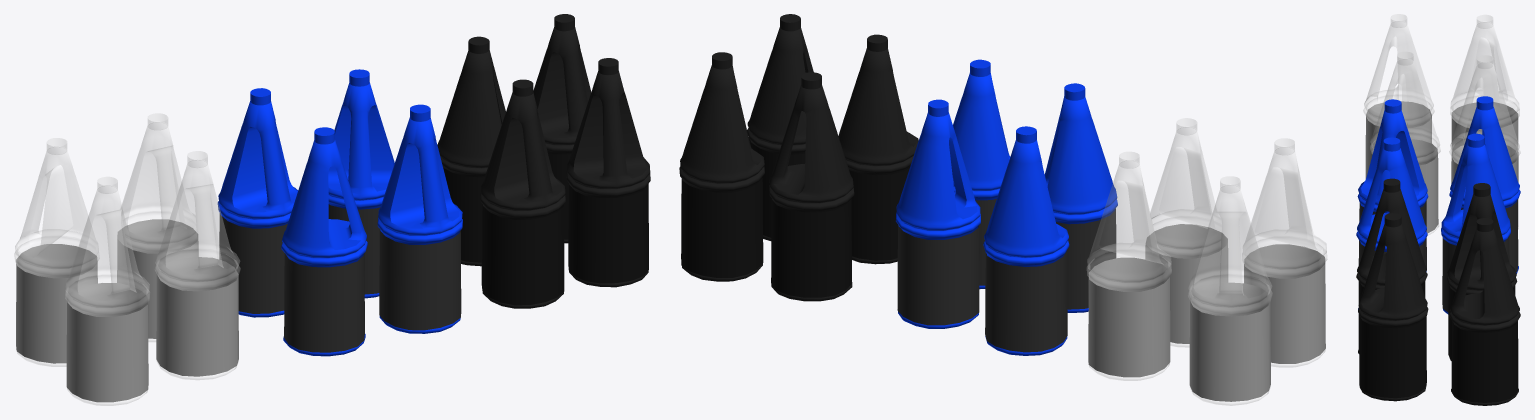
The model's file is Bleach_irrpnt_Pack01.fbx.
The picture shows the model from 3 angles, left to right: view 1: azimuth 30°, elevation 25°; view 2: azimuth 150°, elevation 25°; view 3: azimuth 270°, elevation 25°; orthographic projection. The views are drawn at different scales.
Parts seen in each view (by area): view 1: Bleach_irrpnt_Pack01; view 2: Bleach_irrpnt_Pack01; view 3: Bleach_irrpnt_Pack01.
Boxes of the visible parts, x1,y1,x2,y2 form: Bleach_irrpnt_Pack01: [14, 14, 650, 405]; Bleach_irrpnt_Pack01: [679, 14, 1327, 405]; Bleach_irrpnt_Pack01: [1356, 14, 1520, 405].
Bounding box in the file's own units: 94.65 × 32.36 × 28.2.
